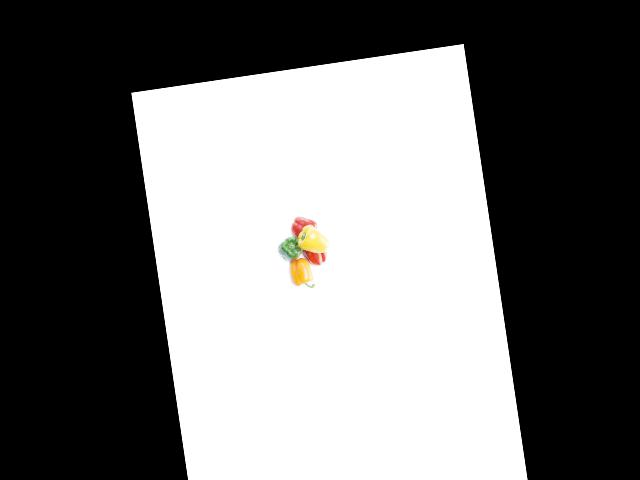bell_pepper: (272, 229, 309, 264)
